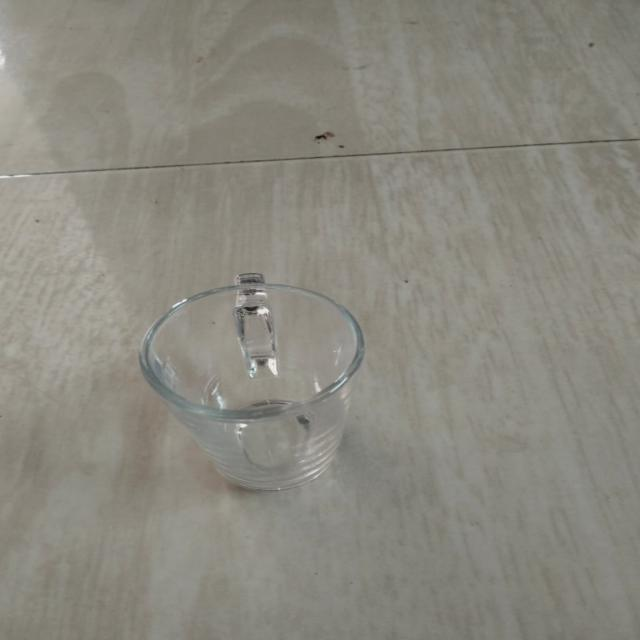glass-VX4N: (113, 272, 374, 494)
